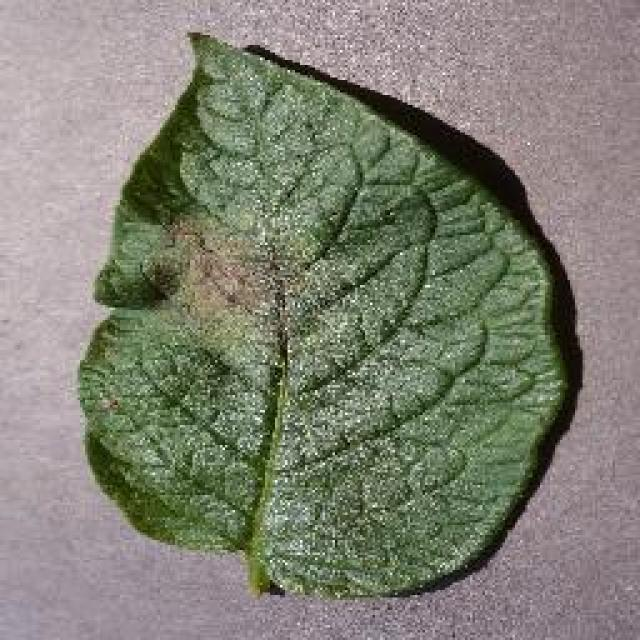Potato: (75, 28, 580, 600)
